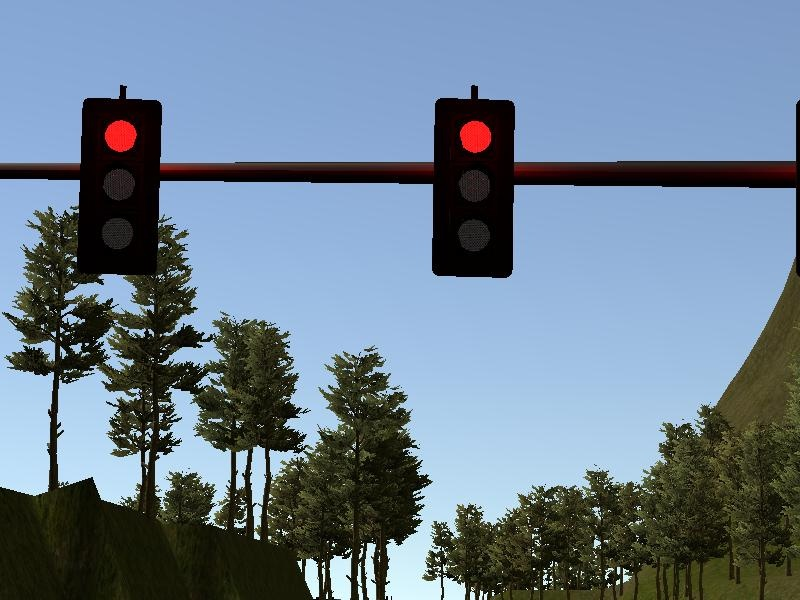red: (74, 96, 166, 275), (428, 97, 517, 280)
